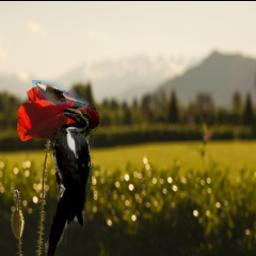Cuckoo: (32, 81, 90, 107)
Woodpecker: (46, 104, 100, 256)
